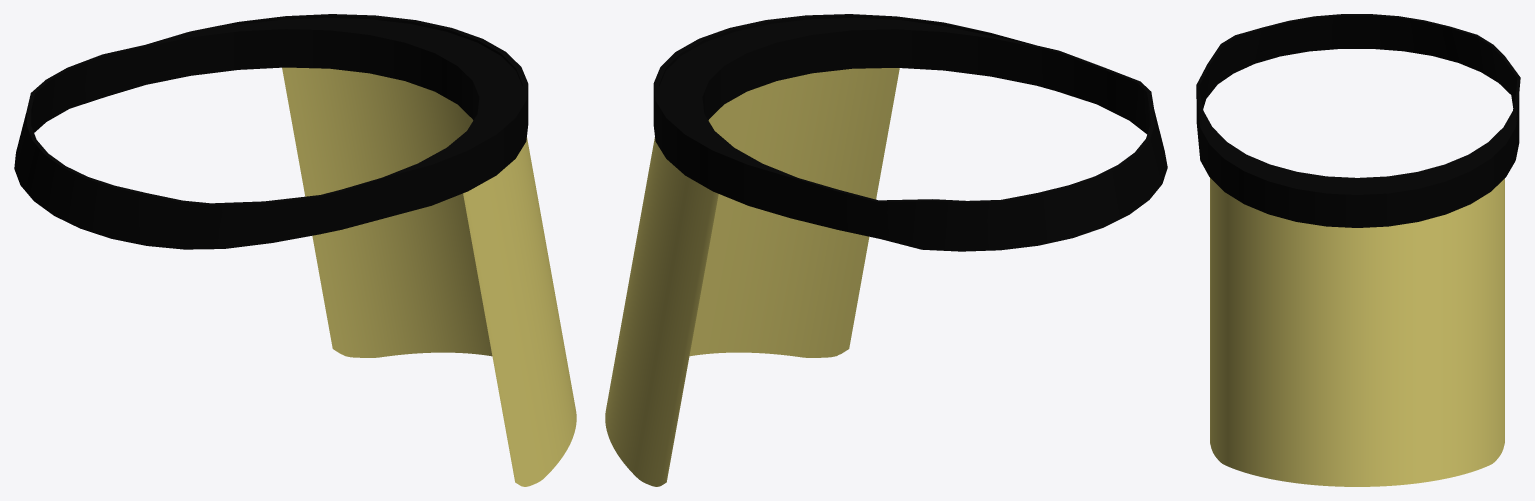
File: Visiere_Publish.fbx
3 views of the same model, side by side, from view 1: azimuth 30°, elevation 25°; view 2: azimuth 150°, elevation 25°; view 3: azimuth 270°, elevation 25° (orthographic). The views are drawn at different scales.
Parts seen in each view (by area): view 1: Circle; view 2: Circle; view 3: Circle.
Boxes of the visible parts, x1,y1,x2,y2 form: Circle: (14,14,576,486); Circle: (605,14,1167,486); Circle: (1196,14,1520,486).
Size of the model in its own units: 247 by 165 by 168.
